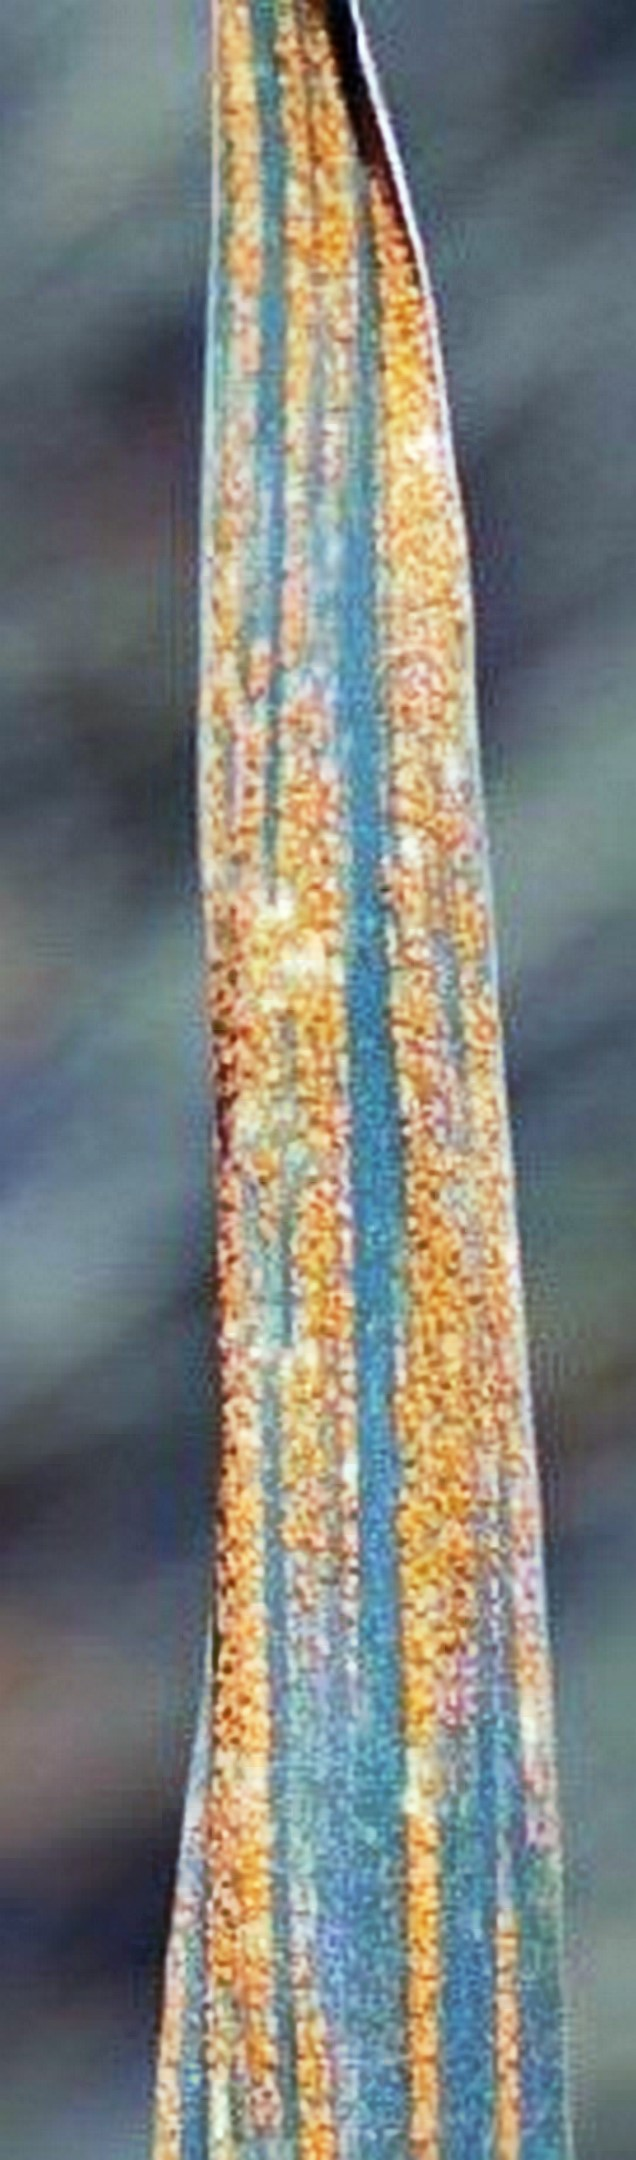Leaf Rust: (118, 202, 608, 2015)
